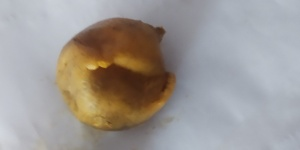BAD: (55, 17, 174, 128)
